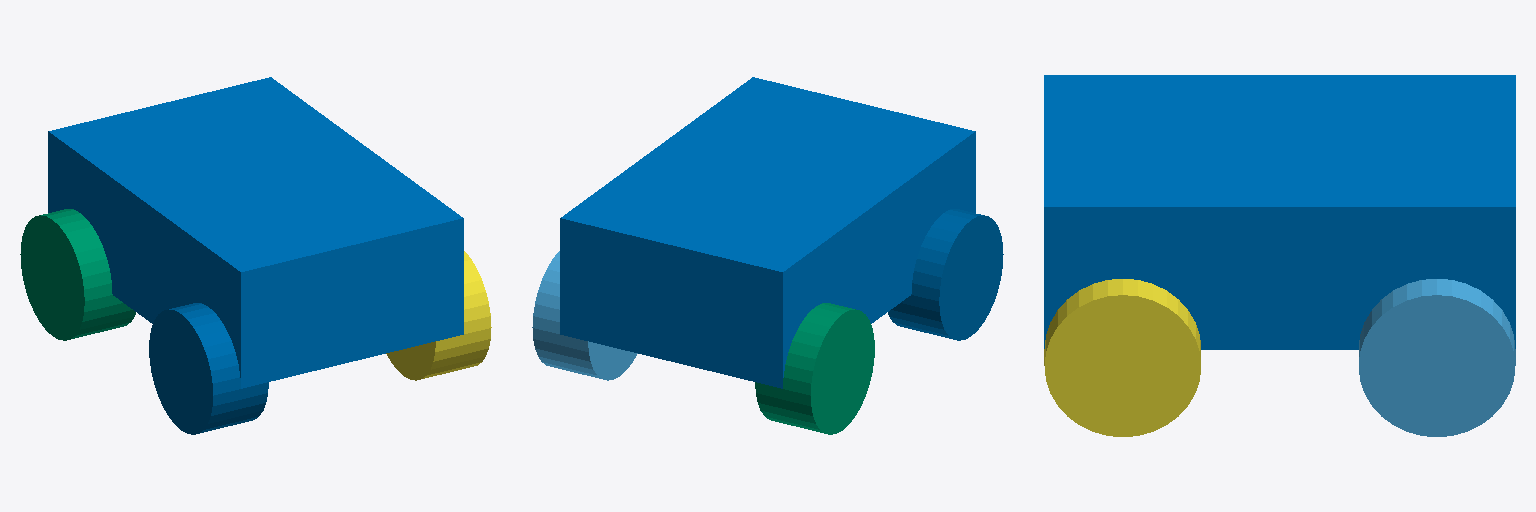
URDF robot description (little_car):
<?xml version="1.0" ?>
<robot name = "little_car">
	<link name = "base_link">
		<visual>
			<origin xyz="0 0 0.05" rpy="0 0 0" /> 
			<geometry>
				<box size="0.2 0.3 0.1" />
		</geometry>
		<material name="blue">
				<color rgba="0 .5 .8 1"/>
		</material>
		</visual>
		<collision>
			<geometry>
				<box size="0.21 0.31 0.11"/>
			</geometry>
		</collision>
				<mass value="10"/>
	</link>

	<!-- front wheel -->
	<link name="wheel_1" > 
		<visual>
		<geometry>
			<cylinder length="0.05" radius="0.05" />
		</geometry>
		</visual>
		<collision>
			<geometry>
				<cylinder length="0.05" radius="0.05" />
			</geometry>
		</collision>
			<mass value="10"/>
	</link>

	<link name="wheel_2" >
		<visual>
		<geometry>
			<cylinder length="0.05" radius="0.05" />
		</geometry>
		</visual>
		<collision>
			<geometry>
				<cylinder length="0.05" radius="0.05" />
			</geometry>
		</collision>
			<mass value="10"/>
	</link>


	<link name="wheel_3" >
		<visual>
		<geometry>
			<cylinder length="0.05" radius="0.05" />
		</geometry>
		</visual>
		<collision>
			<geometry>
				<cylinder length="0.05" radius="0.05" />
			</geometry>
		</collision>
			<mass value="10"/>
	</link>


	<link name="wheel_4" >
		<visual>
		<geometry>
			<cylinder length="0.05" radius="0.05" />
		</geometry>
		</visual>
		<collision>
			<geometry>
				<cylinder length="0.05" radius="0.05" />
			</geometry>
	</collision>
			<mass value="10"/>
	</link>

	<joint name="base_to_wheel_1" type="continuous">
		<parent link="base_link"/>
		<child link="wheel_1" />
		<axis xyz=" 0 0 1" />
		<origin xyz="0.1 0.1 0" rpy="0 1.570795 0" />
		<joint_properties damping="20.0" friction="20.0"/>
	</joint>

	<joint name="base_to_wheel_2" type="continuous">
		<parent link="base_link"/>
		<child link="wheel_2" />
		<axis xyz="0 0 1" />
		<origin xyz="-0.1 0.1 0" rpy="0 1.570795 0" />
		<joint_properties damping="20.0" friction="20.0"/>
	</joint>


	<joint name="base_to_wheel_3" type="continuous">
		<parent link="base_link"/>
		<child link="wheel_3" />
		<origin xyz="0.1 -0.1 0" rpy="0 1.570795 0" />
		<axis xyz="0 0 1" />
		<joint_properties damping="20.0" friction="20.0"/>
	</joint>


	<joint name="base_to_wheel_4" type="continuous">
		<parent link="base_link"/>
		<child link="wheel_4" />
		<origin xyz="-0.1 -0.1 0" rpy="0 1.570795 0" />
		<axis xyz="0 0 1" />
		<joint_properties damping="20.0" friction="20.0"/>
	</joint>
</robot>

--- What the picture shows (computed from the rendered views, not written in the file) ---
The picture shows the robot from 3 angles, left to right: view 1: azimuth 30°, elevation 25°; view 2: azimuth 150°, elevation 25°; view 3: azimuth 270°, elevation 25°; orthographic projection.
Model little_car with 5 links and 4 joints (4 continuous), rooted at base_link, posed every joint at zero.
Visible links, largest first — view 1: base_link, wheel_4, wheel_2, wheel_3; view 2: base_link, wheel_2, wheel_4, wheel_1; view 3: base_link, wheel_1, wheel_3.
Boxes of the visible links, x1,y1,x2,y2 form: base_link: [48, 77, 463, 388]; wheel_4: [149, 303, 268, 434]; wheel_2: [20, 209, 135, 340]; wheel_3: [386, 251, 491, 380]; base_link: [560, 77, 975, 388]; wheel_2: [755, 303, 874, 434]; wheel_4: [888, 209, 1003, 340]; wheel_1: [532, 251, 637, 380]; base_link: [1044, 75, 1515, 349]; wheel_1: [1359, 279, 1515, 436]; wheel_3: [1044, 279, 1200, 436].
Size in the robot's own frame: 0.25 by 0.3 by 0.15 metres.
Geometry: primitives only (box / cylinder / sphere), no mesh files.